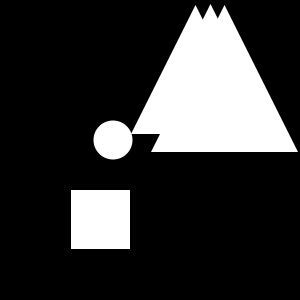circle: (71, 190, 130, 249)
rectangle: (94, 120, 132, 160)
triangle: (151, 5, 298, 152), (131, 5, 260, 134), (147, 4, 274, 131)
